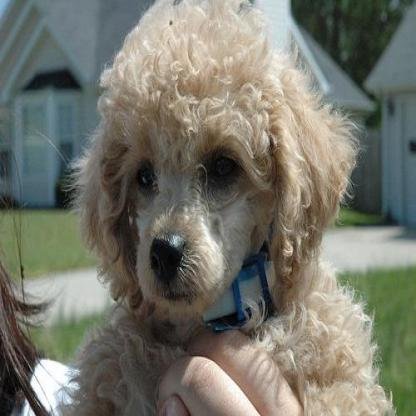toy_poodle: (65, 3, 400, 411)
